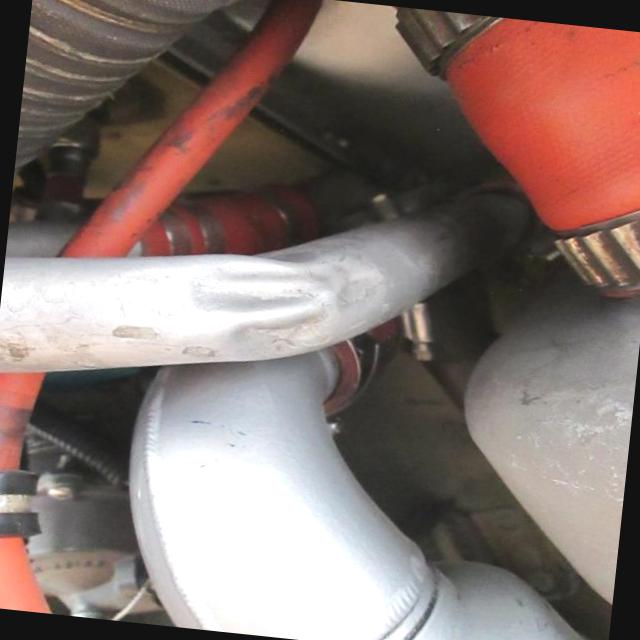dent: (124, 204, 436, 390)
